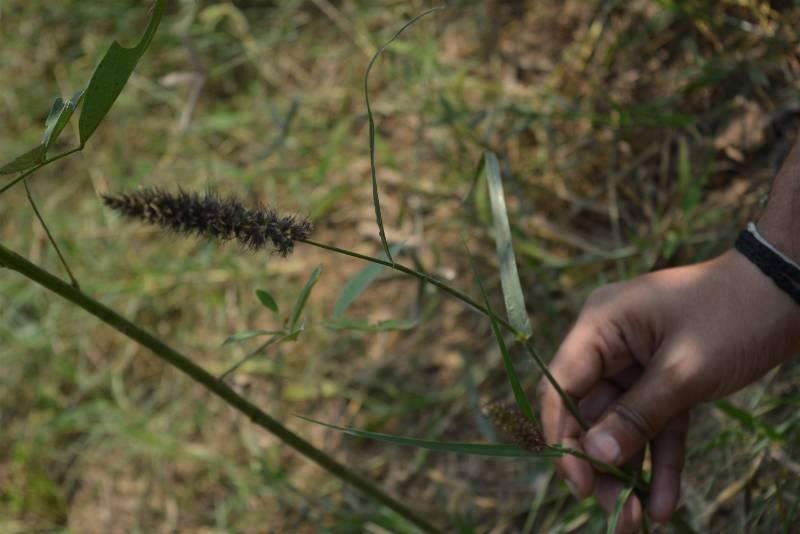plant: (40, 26, 134, 130), (263, 287, 325, 357)
weed: (481, 151, 539, 346), (114, 188, 303, 246), (473, 394, 551, 457)
